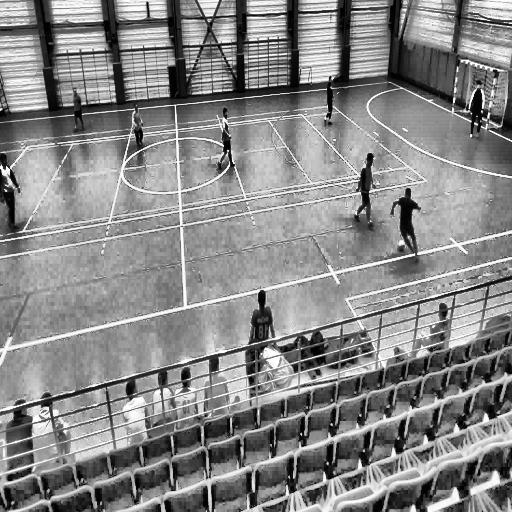ball: (398, 240, 404, 253)
player: (390, 186, 422, 258), (0, 151, 23, 232), (250, 288, 275, 359), (353, 152, 376, 228), (218, 108, 236, 170), (469, 79, 485, 136), (72, 84, 87, 132), (132, 101, 145, 150), (324, 76, 334, 126)
